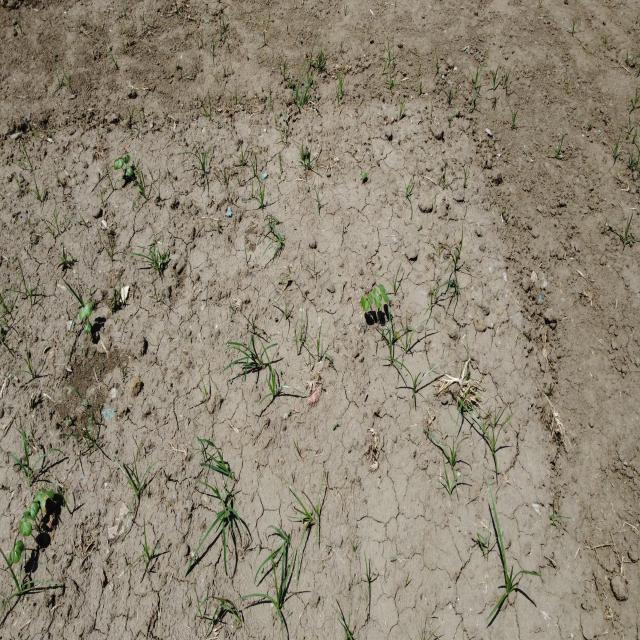seedling_s3: (11, 542, 24, 564), (79, 303, 92, 320), (19, 520, 32, 536), (33, 492, 46, 508), (379, 284, 389, 303), (373, 288, 381, 308), (114, 158, 124, 171), (23, 511, 36, 521), (41, 488, 54, 498), (361, 297, 369, 311), (31, 504, 39, 516), (85, 320, 91, 332), (367, 292, 373, 304), (124, 156, 131, 165), (126, 167, 132, 176), (362, 171, 367, 180)
